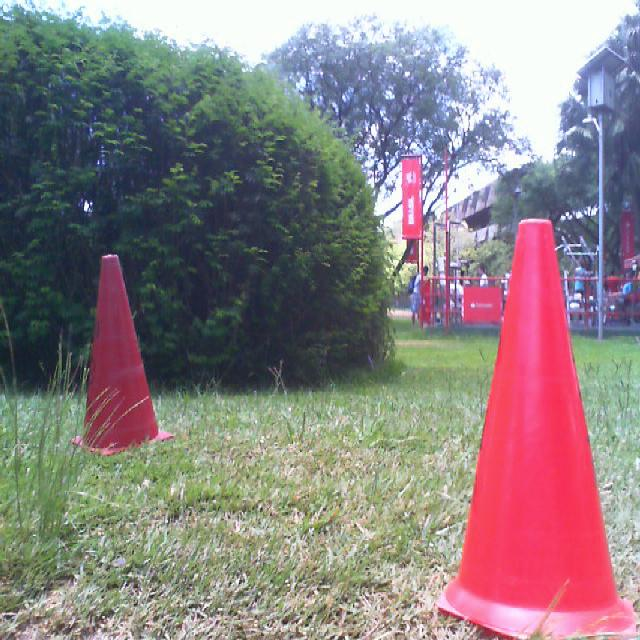cone: (437, 220, 640, 640), (71, 255, 172, 457)
